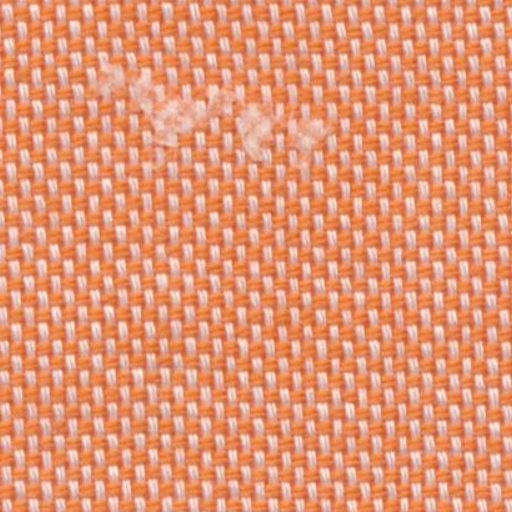DuanSha: (81, 48, 340, 170)
